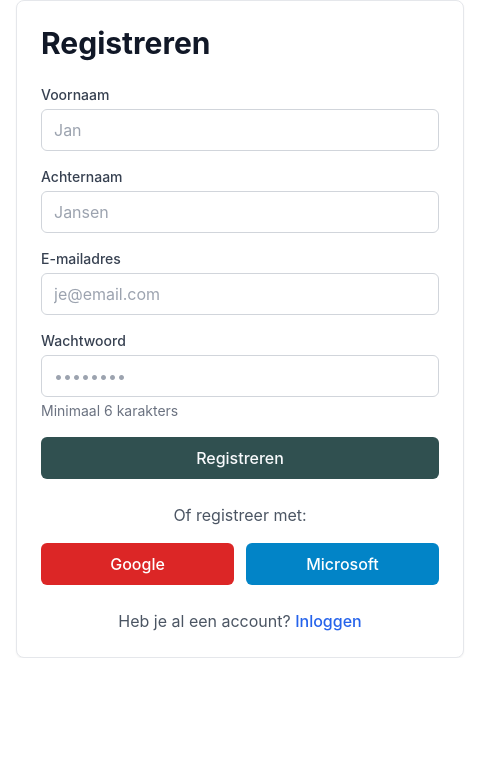
RegisterForm OAuth Integration › should show user-friendly error when Microsoft provider is not enabled
The image size is (481, 768).
# Click the Microsoft registration button
Click the button "Microsoft": [342, 564] box left=246, top=543, right=439, bottom=585
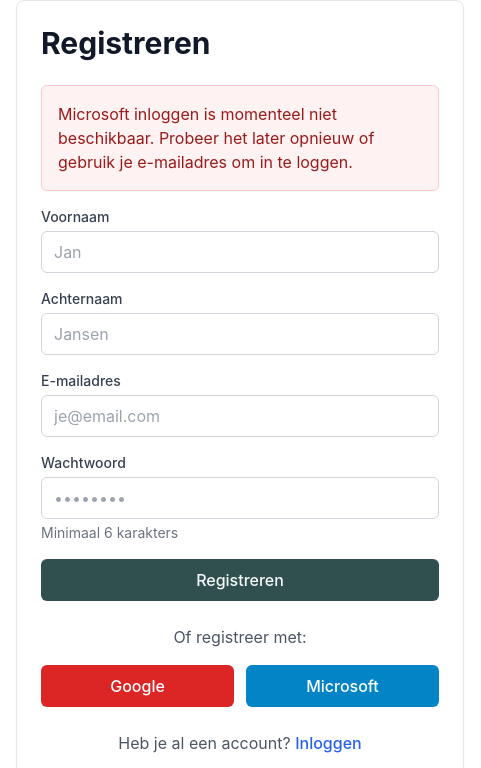
expect the text "Microsoft inloggen is momenteel niet beschikbaar" is shown: met, box left=58, top=104, right=374, bottom=172
